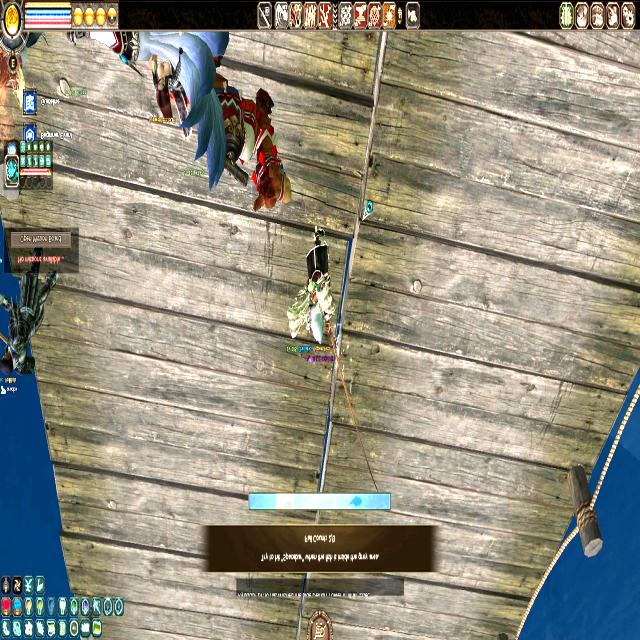fishes: (350, 495, 361, 509)
